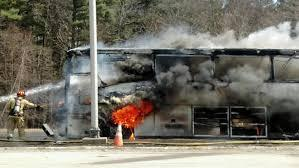fire: (107, 96, 160, 128)
